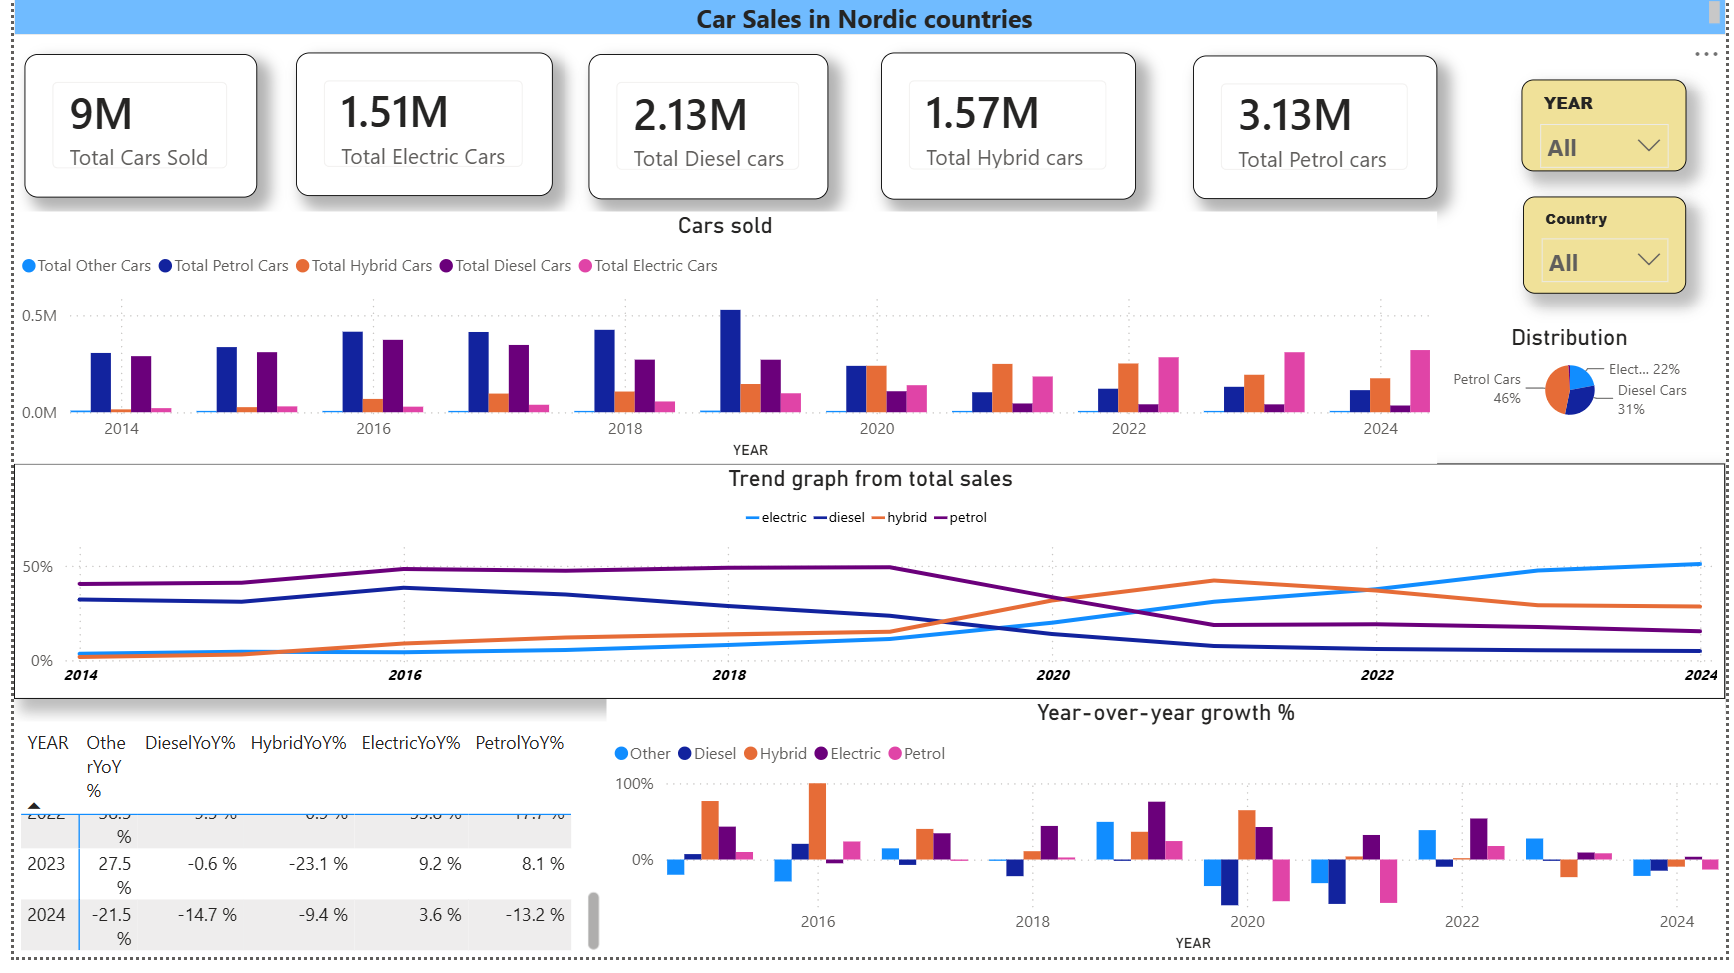

The dashboard page shown, as its layout file describes it:
{"tool":"powerbi","page":{"name":"Page 1","canvas":[1280,720],"ordinal":0},"visuals":[{"type":"textbox","box":[0,0,1280,30],"z":0},{"type":"slicer","fields":{"Values":["Query1.YEAR"]},"box":[1127.1,63.9,123.4,68.4],"z":1000},{"type":"cardVisual","fields":{"Data":["Sum(Query1.Electric_Cars)"]},"box":[210.8,43.7,191.8,107.7],"z":2000},{"type":"cardVisual","fields":{"Data":["Query1.Total Cars Sold"]},"box":[7.5,45,173.8,107.5],"z":3000},{"type":"cardVisual","fields":{"Data":["Sum(Query1.DIESEL_CARS)"]},"box":[429.5,44.9,179.4,108.8],"z":4000},{"type":"cardVisual","fields":{"Data":["Sum(Query1.HYBRID_CARS)"]},"box":[648.2,43.7,190.7,109.9],"z":5000},{"type":"cardVisual","fields":{"Data":["Sum(Query1.PETROL_CARS)"]},"box":[881.5,46,182.8,107.7],"z":6000},{"type":"slicer","fields":{"Values":["Query1.Country"]},"box":[1128.2,151.4,122.2,72.9],"z":7000},{"type":"lineClusteredColumnComboChart","title":"Trend graph from total sales","fields":{"Category":["Query1.YEAR"],"Y2":["Avg(Query1.ELECTRIC_CAR_PERCENTAGE_BY_YEAR)","Avg(Query1.DIESEL_CAR_PERCENTAGE_BY_YEAR)","Avg(Query1.HYBRID_CAR_PERCENTAGE_BY_YEAR)","Avg(Query1.PETROL_CAR_PERCENTAGE_BY_YEAR)"]},"box":[0,351,1279.6,176.1],"z":8000},{"type":"pieChart","title":"Distribution","fields":{"Y":["Sum(Query1.Electric_Cars)","Sum(Query1.DIESEL_CARS)","Sum(Query1.PETROL_CARS)","Sum(Query1.OTHER_FUEL_CARS)"]},"box":[1064.3,246.7,197.4,77.4],"z":9000},{"type":"clusteredColumnChart","title":"Cars sold","fields":{"Category":["Query1.YEAR"],"Y":["Query1.Total Other Cars","Query1.Total Petrol Cars","Query1.Total Hybrid Cars","Query1.Total Diesel Cars","Query1.Total Electric Cars"]},"box":[0,162.5,1063.8,188.8],"z":10000},{"type":"pivotTable","fields":{"Rows":["Query1.YEAR"],"Values":["Query1.OtherYoY%","Query1.DieselYoY%","Query1.HybridYoY%","Query1.ElectricYoY%","Query1.PetrolYoY%"]},"box":[0,543.9,443,176.1],"z":11000},{"type":"lineClusteredColumnComboChart","title":"Year-over-year growth %","fields":{"Category":["Query1.YEAR"],"Y":["Query1.OtherYoY%","Query1.DieselYoY%","Query1.HybridYoY%","Query1.ElectricYoY%","Query1.PetrolYoY%"]},"box":[443,527.1,836.6,192.9],"z":12000}]}

Visuals, with their boxes in screenshot pixels (x1, y1, x2, y2), scaled from the page's 1280x720 canvas onto the 1734x973 screenshot:
textbox: (left=0, top=0, right=1733, bottom=41)
slicer - Query1.YEAR: (left=1527, top=86, right=1694, bottom=179)
cardVisual - Sum(Query1.Electric_Cars): (left=286, top=59, right=545, bottom=205)
cardVisual - Query1.Total Cars Sold: (left=10, top=61, right=246, bottom=206)
cardVisual - Sum(Query1.DIESEL_CARS): (left=582, top=61, right=825, bottom=208)
cardVisual - Sum(Query1.HYBRID_CARS): (left=878, top=59, right=1136, bottom=208)
cardVisual - Sum(Query1.PETROL_CARS): (left=1194, top=62, right=1442, bottom=208)
slicer - Query1.Country: (left=1528, top=205, right=1694, bottom=303)
"Trend graph from total sales" lineClusteredColumnComboChart: (left=0, top=474, right=1733, bottom=712)
"Distribution" pieChart: (left=1442, top=333, right=1709, bottom=438)
"Cars sold" clusteredColumnChart: (left=0, top=220, right=1441, bottom=475)
pivotTable - Query1.YEAR x Query1.OtherYoY%: (left=0, top=735, right=600, bottom=972)
"Year-over-year growth %" lineClusteredColumnComboChart: (left=600, top=712, right=1733, bottom=972)
